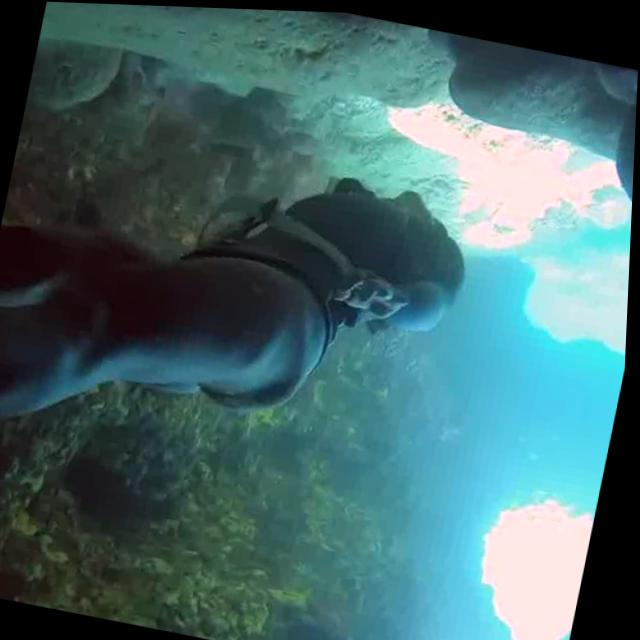human: (0, 103, 485, 548)
